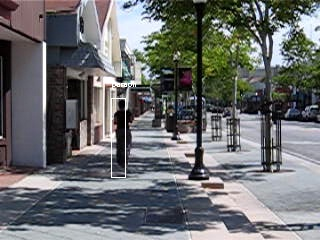person: (112, 101, 133, 167), (111, 101, 132, 167), (113, 101, 134, 167), (112, 100, 133, 166), (112, 102, 133, 168)
target_negative: (197, 5, 277, 207), (174, 35, 244, 164), (205, 147, 297, 171), (253, 195, 304, 222), (246, 196, 263, 230), (285, 5, 298, 46)
